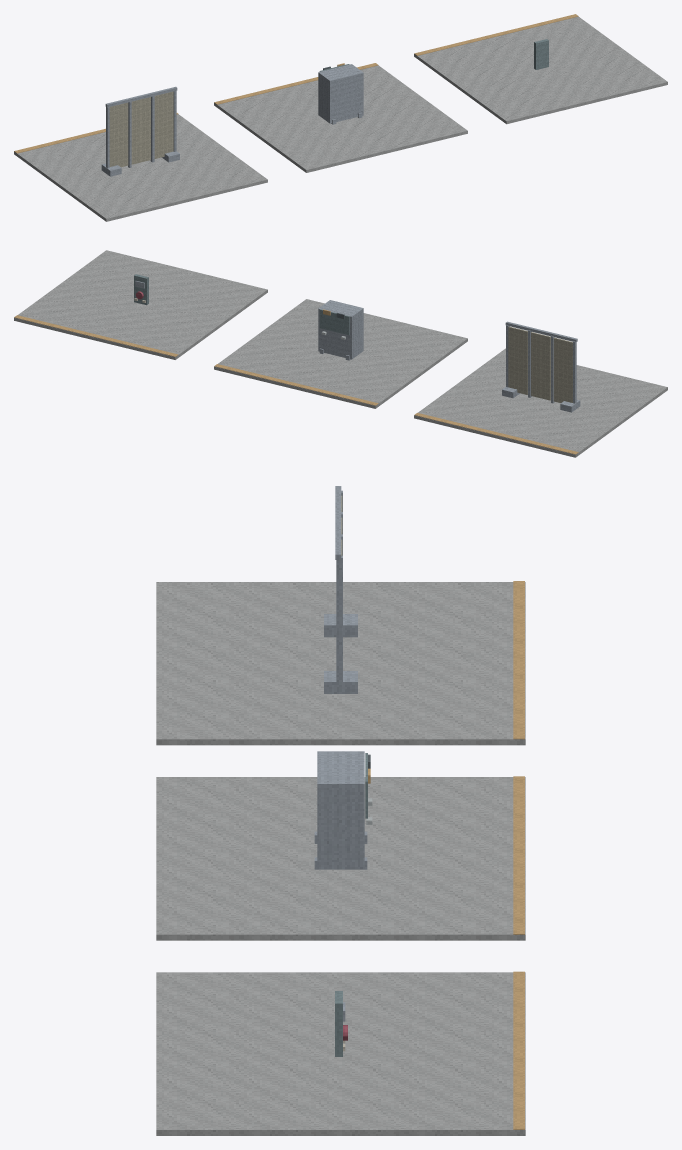
Rendered from level_blockout_kit_wld_07_mortuary_p06.glb.
The picture shows the model from 3 angles, top to bottom: view 1: azimuth 30°, elevation 25°; view 2: azimuth 150°, elevation 25°; view 3: azimuth 270°, elevation 25°; orthographic projection. The views are drawn at different scales.
Parts seen in each view (by area): view 1: level_blockout_kit_wld_07_mortuary_p06; view 2: level_blockout_kit_wld_07_mortuary_p06; view 3: level_blockout_kit_wld_07_mortuary_p06.
Boxes of the visible parts, x1,y1,x2,y2 form: level_blockout_kit_wld_07_mortuary_p06: [14, 14, 667, 221]; level_blockout_kit_wld_07_mortuary_p06: [14, 250, 667, 457]; level_blockout_kit_wld_07_mortuary_p06: [156, 486, 525, 1135].
Bounding box in the file's own units: 19.65 × 2.45 × 5.6.
Materials: 9 (9 with a texture image).
